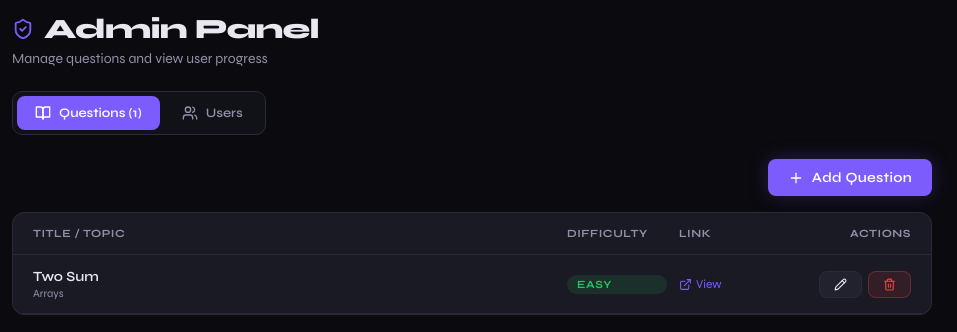
Scenario: AdminPage › shows users tab
Click the button "Users" at (212,113), box [164,96,261,130]
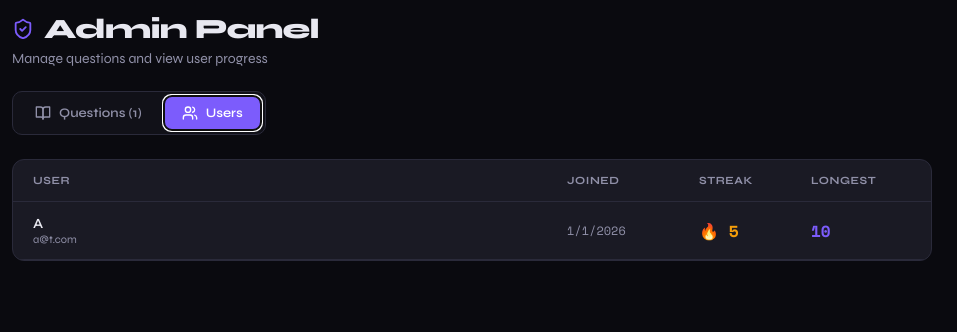
Now the text "User" is shown, box [33,174,70,187]
